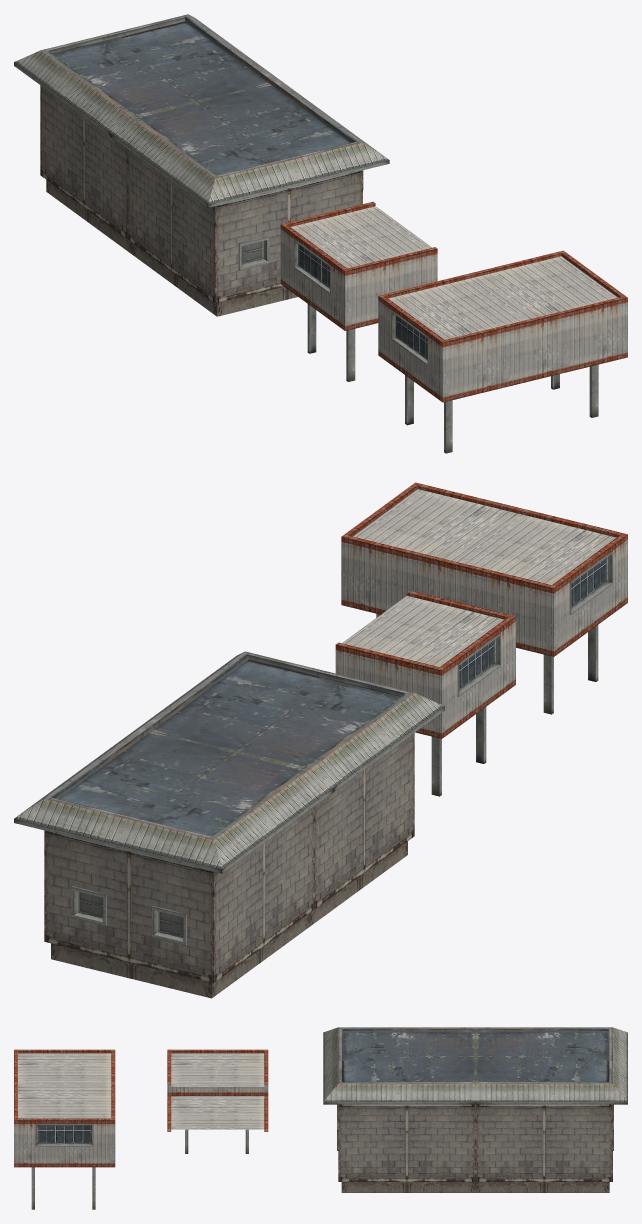
The model's file is Hangar_v2_outbuildings.FBX.
The picture shows the model from 3 angles, top to bottom: view 1: azimuth 30°, elevation 25°; view 2: azimuth 150°, elevation 25°; view 3: azimuth 270°, elevation 25°; orthographic projection. The views are drawn at different scales.
Visible parts, largest first — view 1: Hangar_v2_outbuilding3, Hangar_v2_outbuilding1, Hangar_v2_outbuilding2; view 2: Hangar_v2_outbuilding3, Hangar_v2_outbuilding1, Hangar_v2_outbuilding2; view 3: Hangar_v2_outbuilding3, Hangar_v2_outbuilding1, Hangar_v2_outbuilding2.
Boxes of the visible parts, bbox=[...] form: Hangar_v2_outbuilding3: bbox=[14, 14, 389, 316]; Hangar_v2_outbuilding1: bbox=[378, 250, 627, 453]; Hangar_v2_outbuilding2: bbox=[280, 201, 437, 381]; Hangar_v2_outbuilding3: bbox=[14, 651, 444, 998]; Hangar_v2_outbuilding1: bbox=[341, 482, 627, 714]; Hangar_v2_outbuilding2: bbox=[335, 590, 515, 796]; Hangar_v2_outbuilding3: bbox=[323, 1027, 627, 1192]; Hangar_v2_outbuilding1: bbox=[14, 1049, 115, 1209]; Hangar_v2_outbuilding2: bbox=[167, 1049, 268, 1153].
Size of the model in its own units: 10.42 by 6.27 by 31.6.
